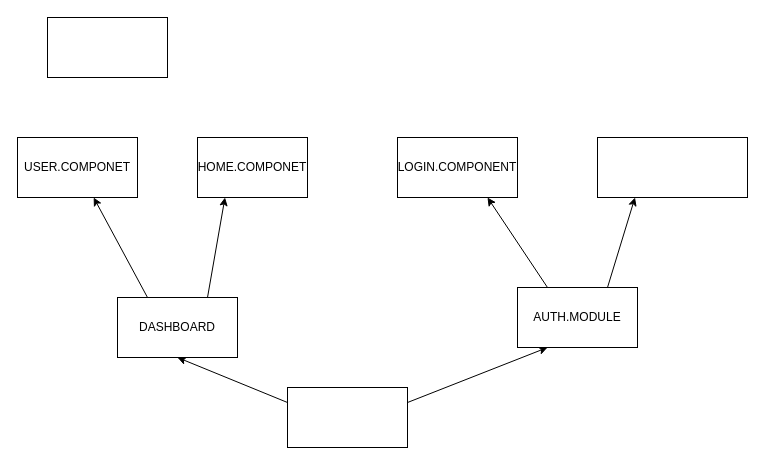
Image size: 765x465. Some labels were removed from this diagram. Each missing label, with the centre of its shape:
"APP.MODULE" goes at point (347, 417).
"REGISTER.COMPONENT" goes at point (672, 167).
